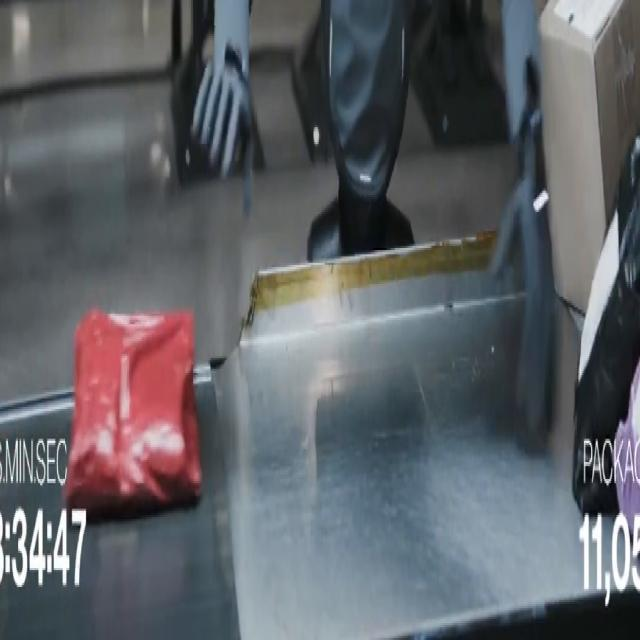package: (541, 0, 639, 311), (65, 310, 201, 517), (573, 136, 639, 514), (614, 365, 639, 534)
